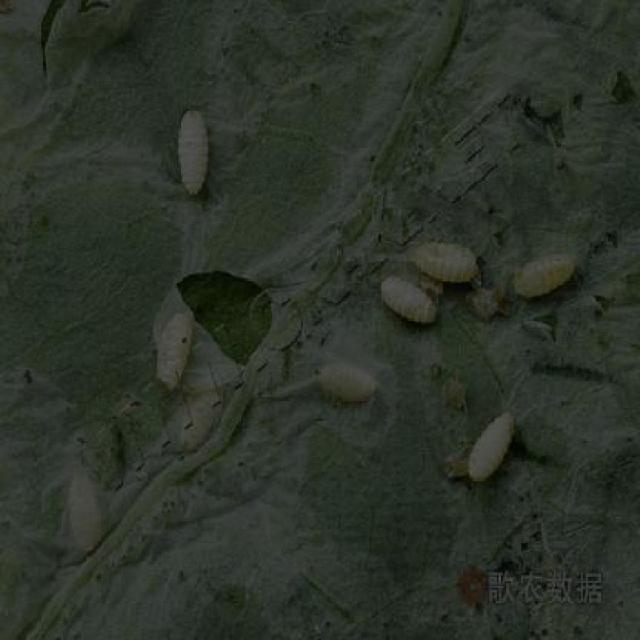whorl-maggot: (460, 402, 523, 500), (500, 250, 589, 304), (170, 105, 222, 197), (379, 265, 441, 332), (302, 360, 384, 408), (419, 228, 483, 286), (67, 468, 107, 554)
